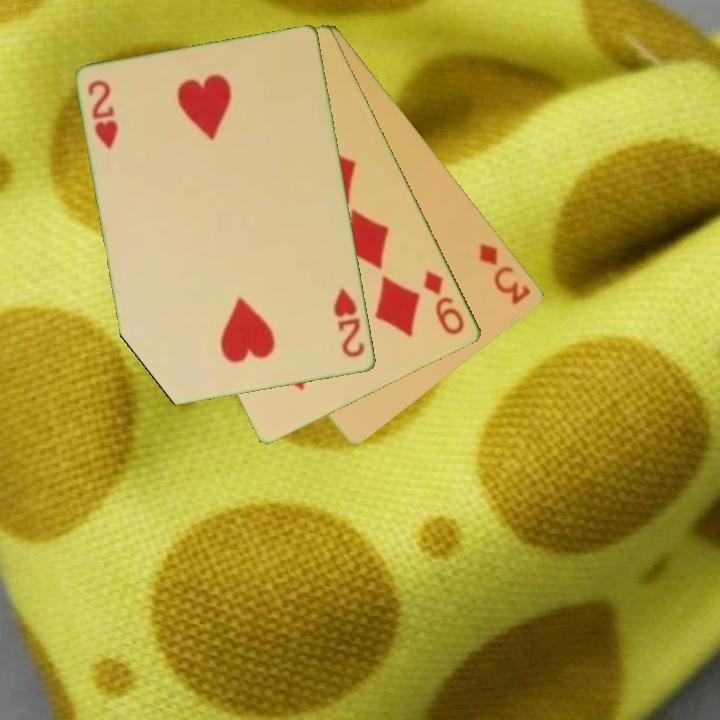2h: (330, 284, 368, 361), (85, 77, 122, 152)
3d: (476, 239, 535, 308)
9d: (420, 267, 468, 338)
